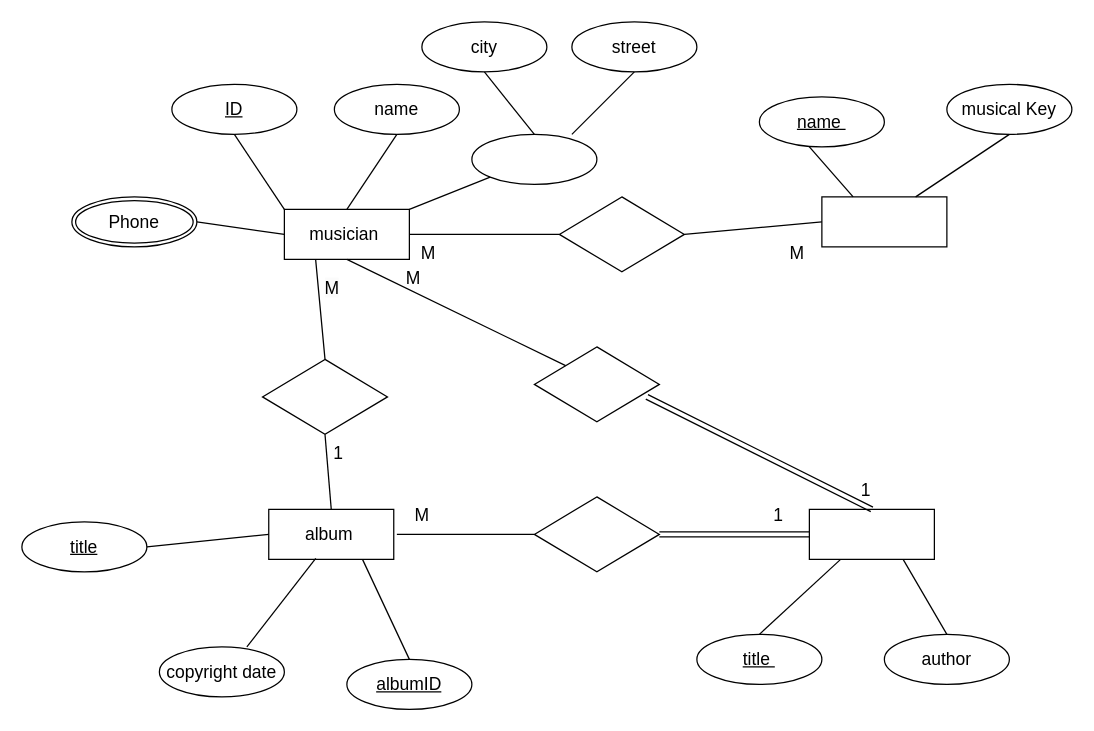
The diagram is 1094 pixels wide and 731 high, and some of its shapes have lost their labels. The centre of each missing label's shape, as x and y in pixels:
"address" goes at point (534, 158).
"has" goes at point (596, 534).
"instrument" goes at point (884, 221).
"performe" goes at point (596, 384).
"play" goes at point (621, 234).
"produce" goes at point (324, 396).
"song" goes at point (871, 533).
